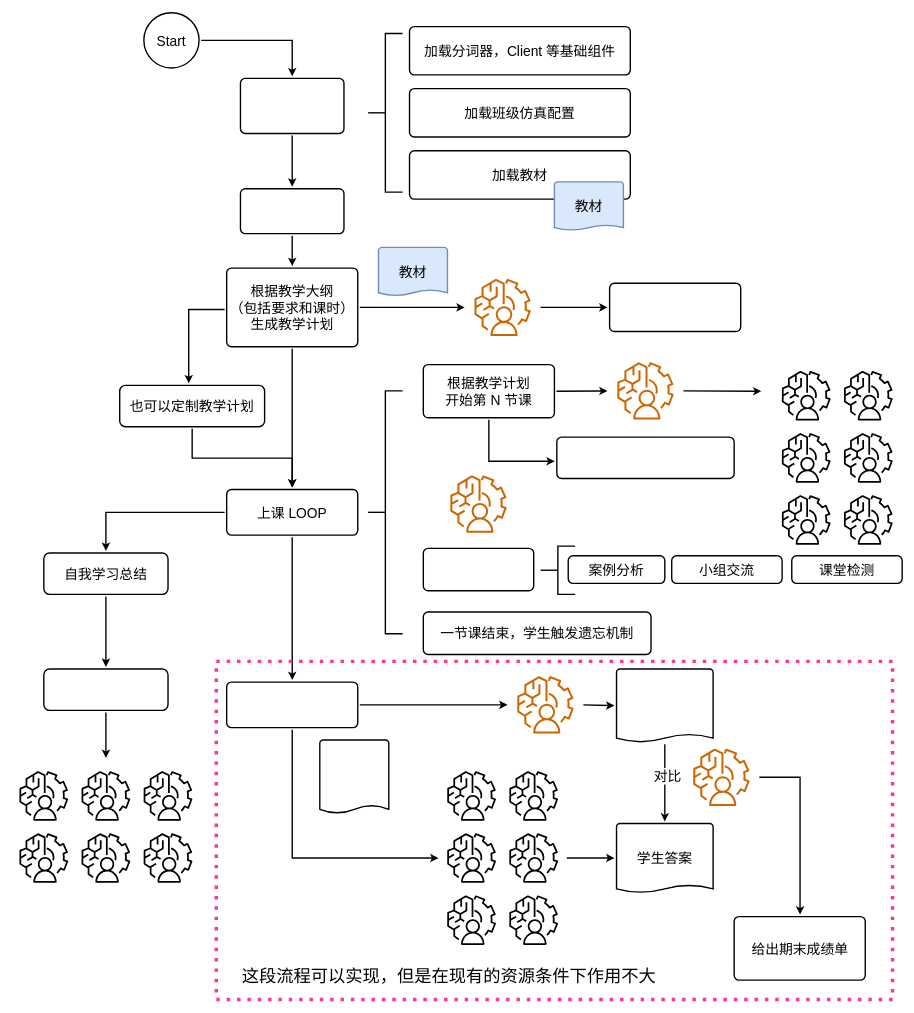
This 914x1013 diagram has some shape labels left out. Each missing label, with the centre of its shape:
Extra 部分 需要老师安排: the point at 478,569
开始实验: the point at 291,211
期末检测: the point at 292,704
期末评教: the point at 105,689
标准答案: the point at 664,705
生成教学计划 加入上下文: the point at 675,307
直接让老师根据内容教学: the point at 645,457
试卷: the point at 354,776
预加载配置: the point at 291,105
